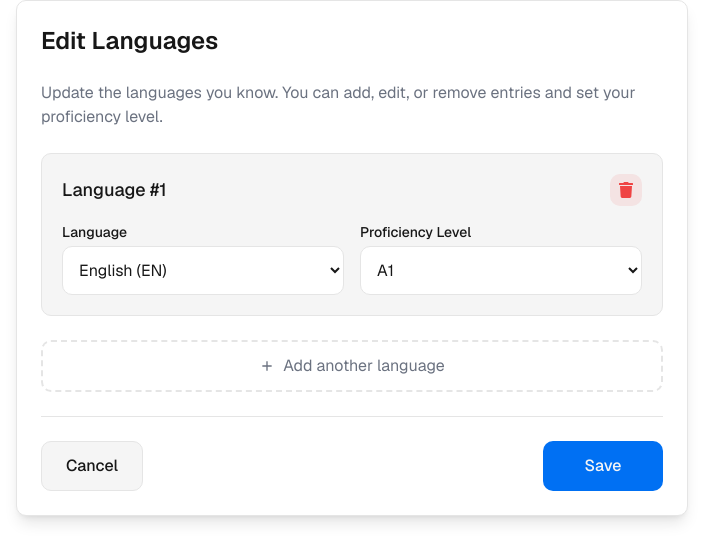
Test: EditLanguagesForm Component › Zarządzanie formularzem (FieldArray) › powinien usunąć wpis po kliknięciu ikony usuwania
Click the button titled "Remove language": [626, 190] box [610, 174, 642, 206]
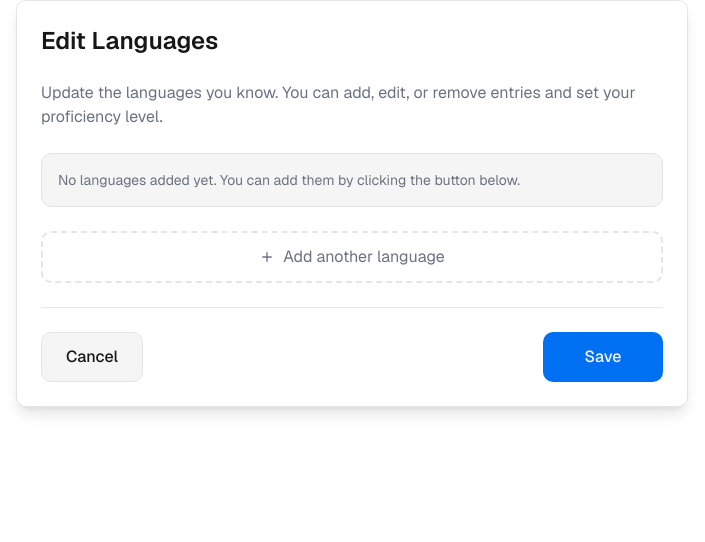
Check: the heading "Language #1" is gone
Check: the text "No languages added yet" is shown, box [58, 171, 520, 189]
